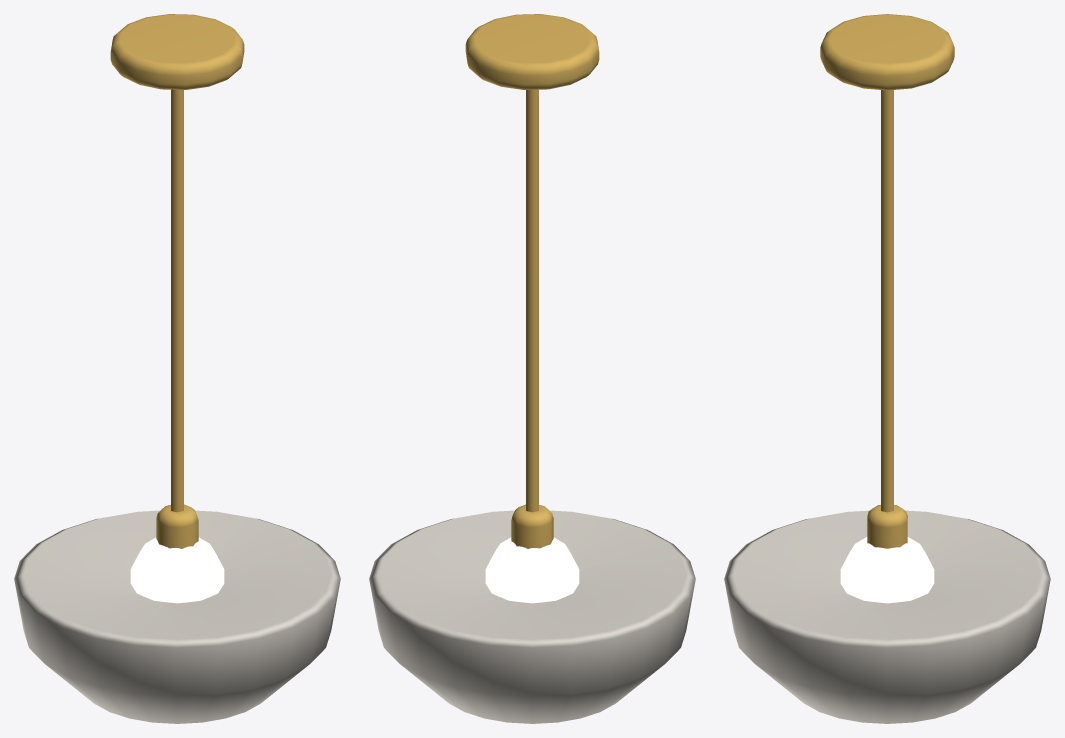
The model's file is milk_glass_pendant.glb.
3 views of the same model, side by side, from view 1: azimuth 30°, elevation 25°; view 2: azimuth 150°, elevation 25°; view 3: azimuth 270°, elevation 25° (orthographic).
Parts seen in each view (by area): view 1: milk_glass_pendant_mesh; view 2: milk_glass_pendant_mesh; view 3: milk_glass_pendant_mesh.
Part boxes in pixels (box(x1,y1,x2,y2)): milk_glass_pendant_mesh: box(14, 14, 340, 723); milk_glass_pendant_mesh: box(369, 14, 695, 723); milk_glass_pendant_mesh: box(724, 14, 1050, 723).
Size of the model in its own units: 0.34 by 0.75 by 0.34.
